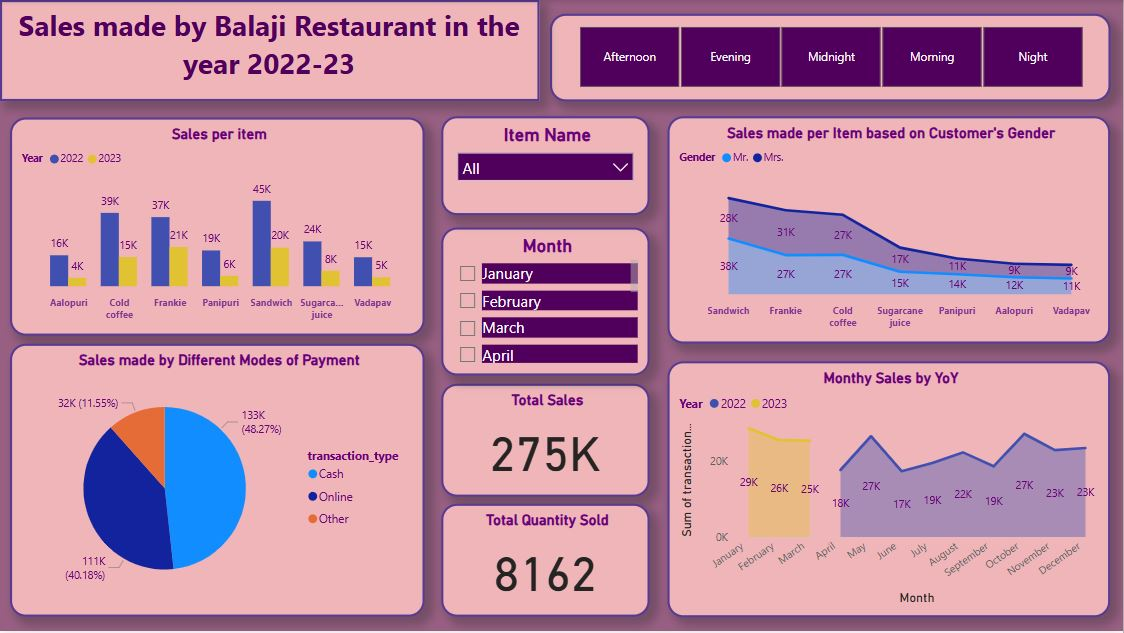

The dashboard page shown, as its layout file describes it:
{"tool":"powerbi","page":{"name":"Page 2","canvas":[1280,720],"ordinal":1},"visuals":[{"type":"clusteredColumnChart","title":"Sales per item","fields":{"Category":["food_sales.item_name"],"Y":["Sum(food_sales.transaction_amount)"],"Series":["food_sales.date.Variation.Date Hierarchy.Year"]},"box":[11.2,133.8,472.5,248.8],"z":0},{"type":"pieChart","title":"Sales made by Different Modes of Payment","fields":{"Y":["Sum(food_sales.transaction_amount)"],"Category":["food_sales.transaction_type"]},"box":[11.2,392.5,472.5,311.2],"z":1},{"type":"slicer","fields":{"Values":["food_sales.time_of_sale"]},"box":[627.1,15.1,639.5,100.2],"z":2},{"type":"card","title":"Total Sales","fields":{"Values":["Sum(food_sales.transaction_amount)"]},"box":[503.6,437.7,237.4,129],"z":3},{"type":"stackedAreaChart","title":"Sales made per Item based on Customer''s Gender","fields":{"Category":["food_sales.item_name"],"Series":["food_sales.received_by"],"Y":["Sum(food_sales.transaction_amount)"]},"box":[761.6,133.1,505,259.3],"z":4},{"type":"card","title":"Total Quantity Sold","fields":{"Values":["Sum(food_sales.quantity)"]},"box":[503.6,575,237.4,129],"z":5},{"type":"stackedAreaChart","title":"Monthy Sales by YoY","fields":{"Y":["Sum(food_sales.transaction_amount)"],"Category":["food_sales.date.Variation.Date Hierarchy.Month"],"Series":["food_sales.date.Variation.Date Hierarchy.Year"]},"box":[761.6,411.7,505,292.3],"z":6},{"type":"slicer","title":"Month","fields":{"Values":["food_sales.date.Variation.Date Hierarchy.Month"]},"box":[503.6,259.3,237.4,168.8],"z":7},{"type":"textbox","box":[0,0,615,115],"z":8},{"type":"slicer","title":"Item Name","fields":{"Values":["food_sales.item_name"]},"box":[503.6,133.1,237.4,112.5],"z":9}]}

Visuals, with their boxes in screenshot pixels (x1, y1, x2, y2), scaled from the page's 1280x720 canvas onto the 1124x633 screenshot:
"Sales per item" clusteredColumnChart: [10, 118, 425, 336]
"Sales made by Different Modes of Payment" pieChart: [10, 345, 425, 619]
slicer - food_sales.time_of_sale: [551, 13, 1112, 101]
"Total Sales" card: [442, 385, 651, 498]
"Sales made per Item based on Customer''s Gender" stackedAreaChart: [669, 117, 1112, 345]
"Total Quantity Sold" card: [442, 506, 651, 619]
"Monthy Sales by YoY" stackedAreaChart: [669, 362, 1112, 619]
"Month" slicer: [442, 228, 651, 376]
textbox: [0, 0, 540, 101]
"Item Name" slicer: [442, 117, 651, 216]
